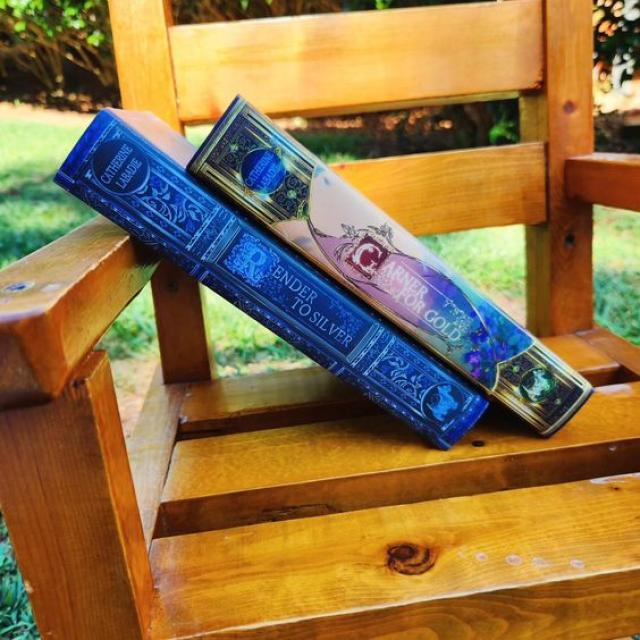book: (52, 106, 488, 452), (188, 96, 594, 437)
